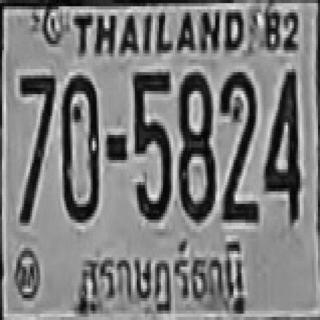N00: (60, 72, 99, 220)
N02: (219, 67, 256, 221)
N04: (263, 66, 299, 220)
N05: (131, 69, 169, 220)
N07: (18, 71, 54, 221)
N08: (177, 69, 213, 220)
P67: (72, 234, 251, 315)
